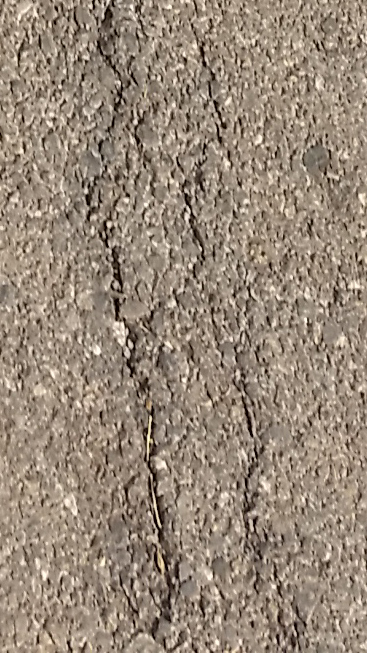A: (60, 1, 310, 645)
